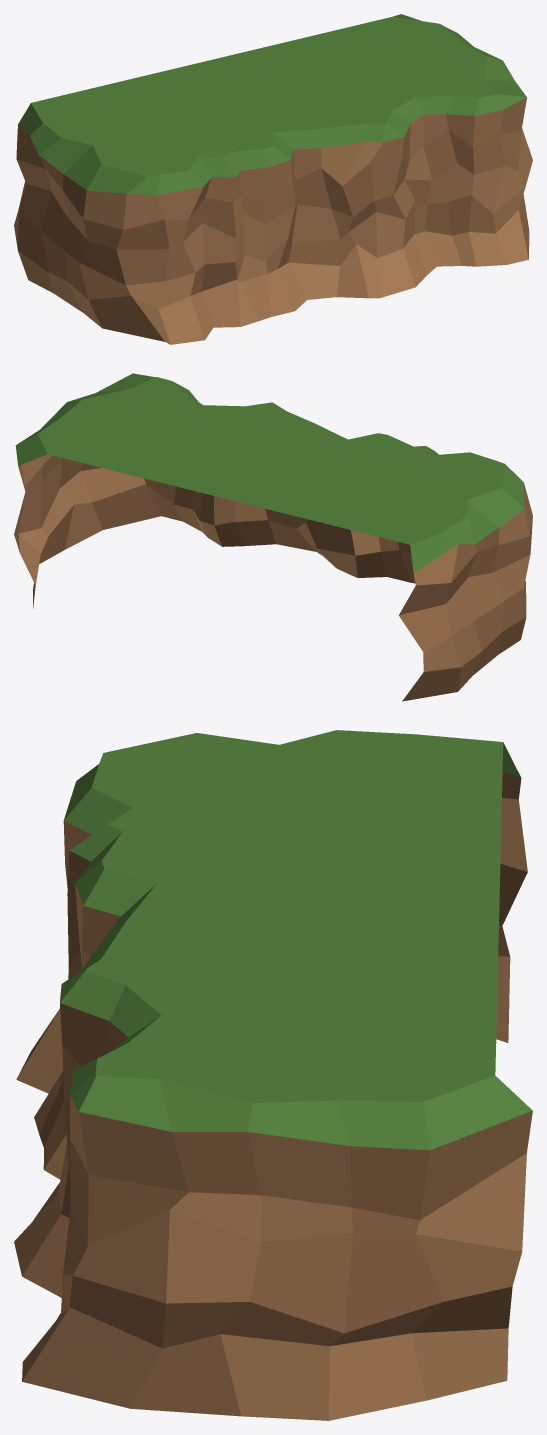
File: Cliff.fbx
The picture shows the model from 3 angles, top to bottom: view 1: azimuth 30°, elevation 25°; view 2: azimuth 150°, elevation 25°; view 3: azimuth 270°, elevation 25°; orthographic projection. The views are drawn at different scales.
Visible parts, largest first — view 1: Plane.002; view 2: Plane.002; view 3: Plane.002.
Part boxes in pixels (x1,y1,x2,y2): Plane.002: (14,14,532,344); Plane.002: (14,373,532,701); Plane.002: (14,730,532,1420).
Bounding box in the file's own units: 9024 × 2994 × 4777.
